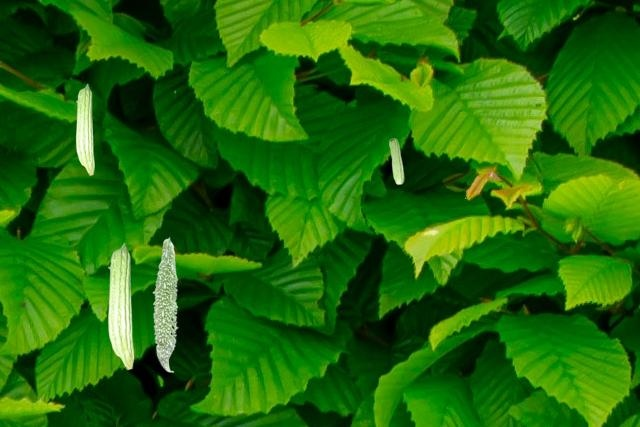ampalaya: (152, 236, 179, 372), (107, 242, 134, 370), (75, 83, 94, 176), (388, 137, 404, 185)
